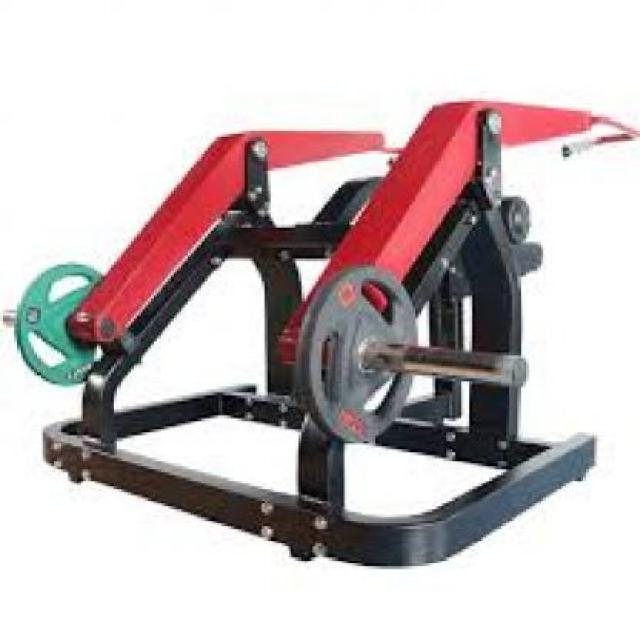seated dip machine: (0, 97, 640, 568)
